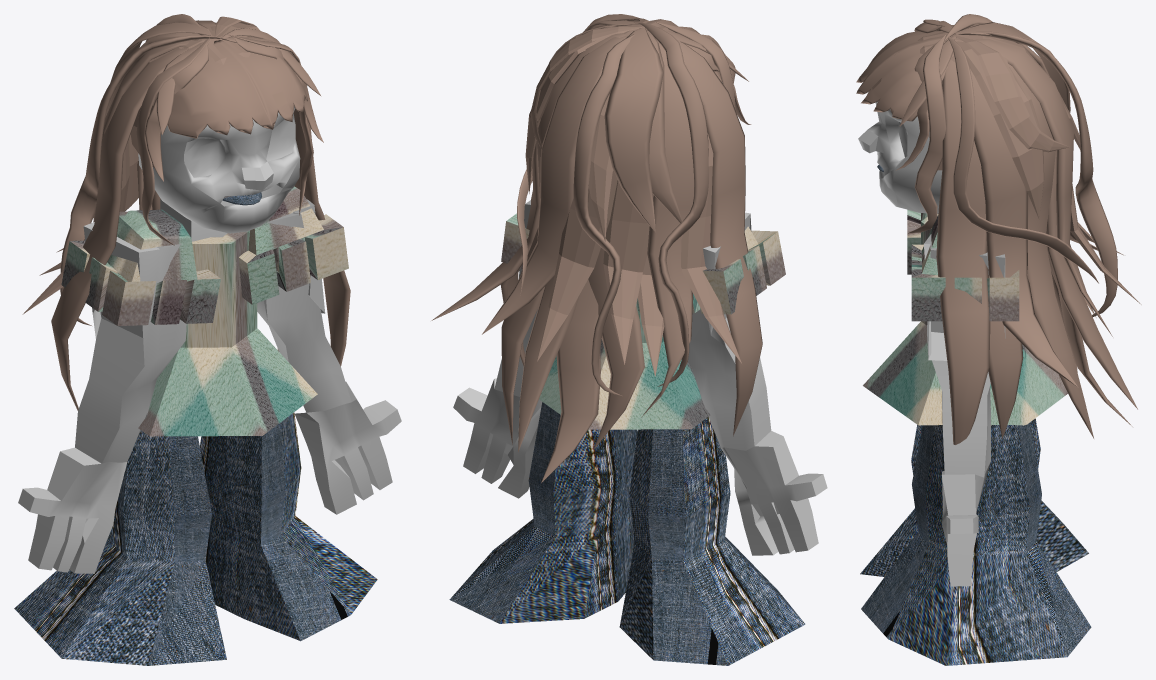
File: Practice rig.fbx
3 views of the same model, side by side, from view 1: azimuth 30°, elevation 25°; view 2: azimuth 150°, elevation 25°; view 3: azimuth 270°, elevation 25° (orthographic). The views are drawn at different scales.
Visible parts, largest first — view 1: polySurface32, polySurface30, polySurface33, polySurface4, polySurface34, polySurface1, polySurface19, polySurface8, polySurface27, polySurface17, polySurface23, polySurface26 (+6 smaller); view 2: polySurface32, polySurface1, polySurface15, polySurface20, polySurface10, polySurface11, polySurface19, polySurface16, polySurface7, polySurface9, polySurface5, polySurface3 (+13 smaller); view 3: polySurface32, polySurface8, polySurface24, polySurface3, polySurface15, polySurface34, polySurface30, polySurface16, polySurface4, polySurface21, polySurface14, polySurface2 (+12 smaller).
Part boxes in pixels (x1,y1,x2,y2): polySurface32: (14,199,401,665); polySurface30: (138,106,300,233); polySurface33: (61,209,220,325); polySurface4: (167,40,307,138); polySurface34: (238,186,348,304); polySurface1: (51,48,189,410); polySurface19: (60,35,229,325); polySurface8: (293,108,350,366); polySurface27: (136,37,209,245); polySurface17: (156,36,321,134); polySurface23: (144,44,208,181); polySurface26: (225,34,313,215); polySurface32: (449,200,827,665); polySurface1: (677,40,762,436); polySurface15: (482,36,627,334); polySurface20: (604,27,663,232); polySurface10: (641,40,694,417); polySurface11: (541,279,600,482); polySurface19: (638,23,708,386); polySurface16: (573,34,634,396); polySurface7: (603,180,653,364); polySurface9: (537,170,617,361); polySurface5: (588,247,644,449); polySurface3: (501,33,625,444); polySurface32: (860,214,1091,665); polySurface8: (936,54,990,444); polySurface24: (953,54,1078,387); polySurface3: (980,42,1093,438); polySurface15: (975,39,1112,336); polySurface34: (911,215,1019,321); polySurface30: (858,101,942,213); polySurface16: (958,31,1117,316); polySurface4: (856,30,948,121); polySurface21: (946,35,1098,283); polySurface14: (953,34,1069,152); polySurface2: (1046,150,1137,409).
Size of the model in its own units: 8.19 by 12.27 by 5.66.
